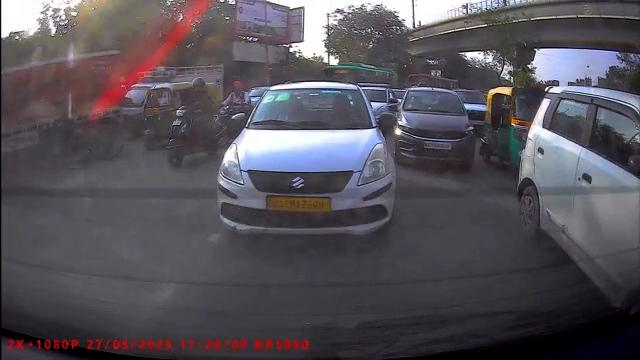motorcycle_with_helmet: (162, 76, 217, 169)
motorcycle_without_helmet: (213, 79, 252, 148)
